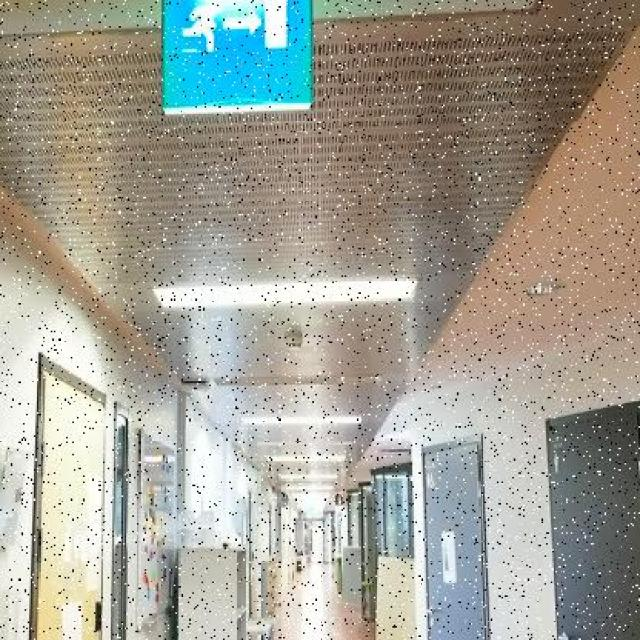emergency_exit: (159, 0, 315, 115)
